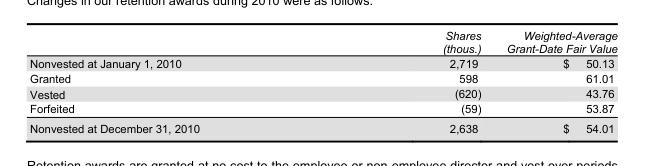table: (29, 28, 616, 134)
table column: (29, 28, 320, 134), (320, 28, 493, 134), (493, 28, 616, 134)
table column header: (29, 28, 616, 55)
table row: (29, 28, 616, 55), (29, 101, 616, 118), (29, 85, 616, 101), (29, 118, 616, 134), (29, 55, 616, 70), (29, 70, 616, 85)
